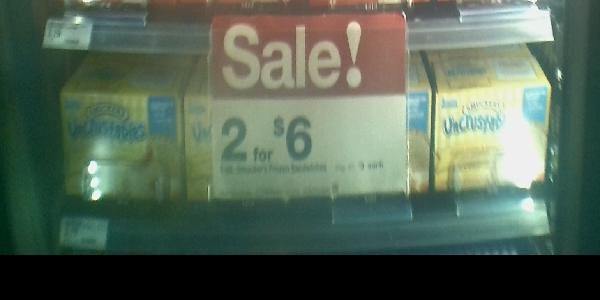icecream: (283, 83, 429, 198), (59, 88, 184, 202), (183, 86, 287, 209), (435, 87, 551, 189)
